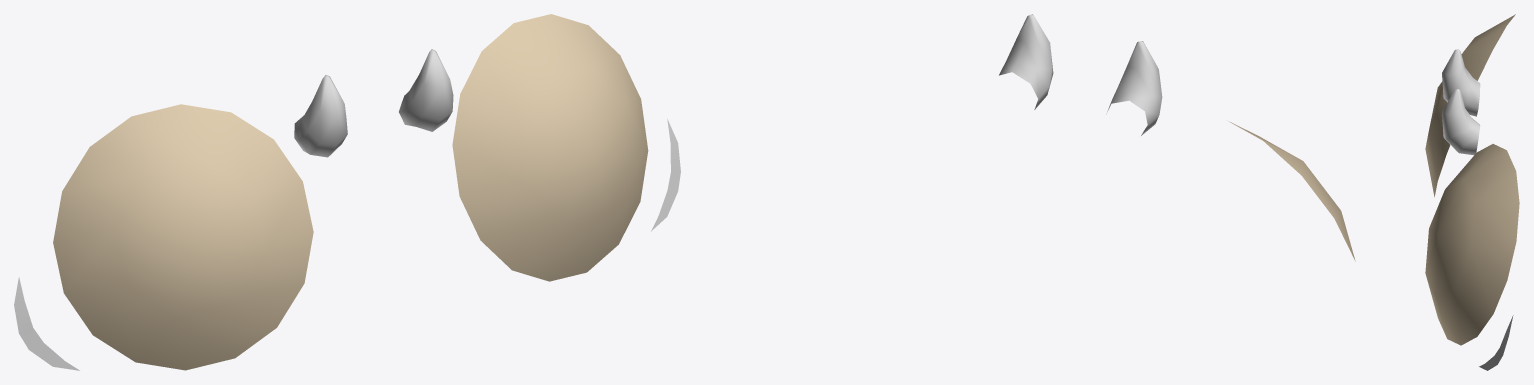
File: S12_Aquatic04_L2_Eye.glb
The picture shows the model from 3 angles, left to right: view 1: azimuth 30°, elevation 25°; view 2: azimuth 150°, elevation 25°; view 3: azimuth 270°, elevation 25°; orthographic projection. The views are drawn at different scales.
Parts seen in each view (by area): view 1: S12_Aquatic04_L2_Eye__Eye_M__surface0__lod0; view 2: S12_Aquatic04_L2_Eye__Eye_M__surface0__lod0; view 3: S12_Aquatic04_L2_Eye__Eye_M__surface0__lod0.
Part boxes in pixels (x1=…): S12_Aquatic04_L2_Eye__Eye_M__surface0__lod0: x1=14, y1=14, x2=680, y2=370; S12_Aquatic04_L2_Eye__Eye_M__surface0__lod0: x1=999, y1=14, x2=1355, y2=261; S12_Aquatic04_L2_Eye__Eye_M__surface0__lod0: x1=1425, y1=14, x2=1519, y2=370.
Size of the model in its own units: 0.686 by 0.2509 by 0.1099.
